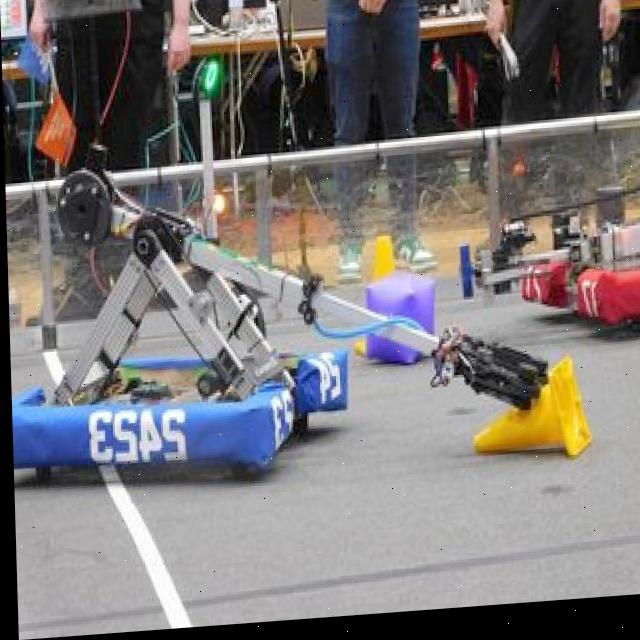robot: (4, 133, 611, 534), (489, 199, 640, 380)
